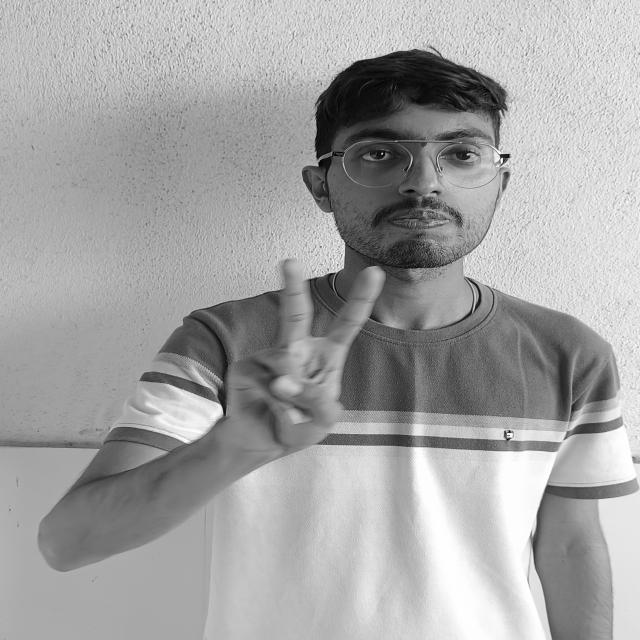Victory: (149, 250, 460, 480)
